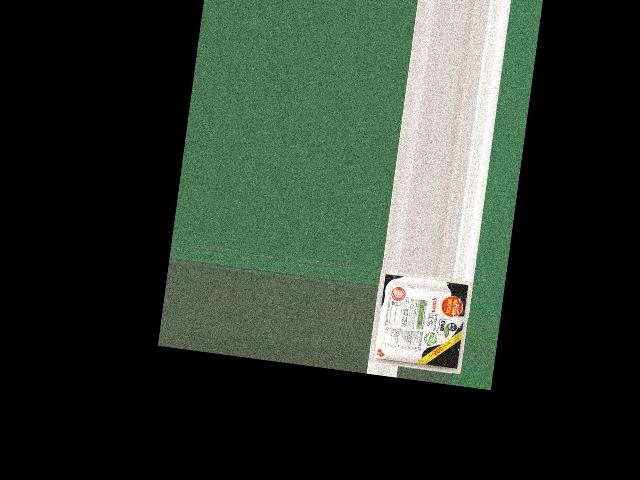cheese: (376, 273, 466, 373)
